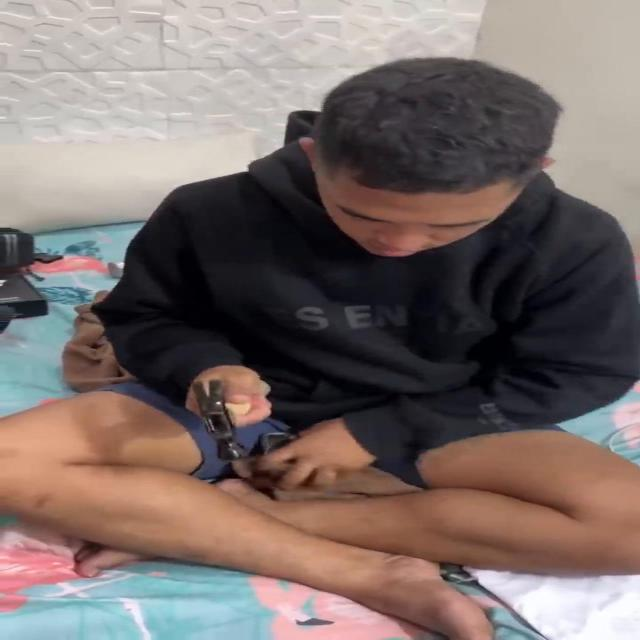hammer: (192, 376, 254, 462)
